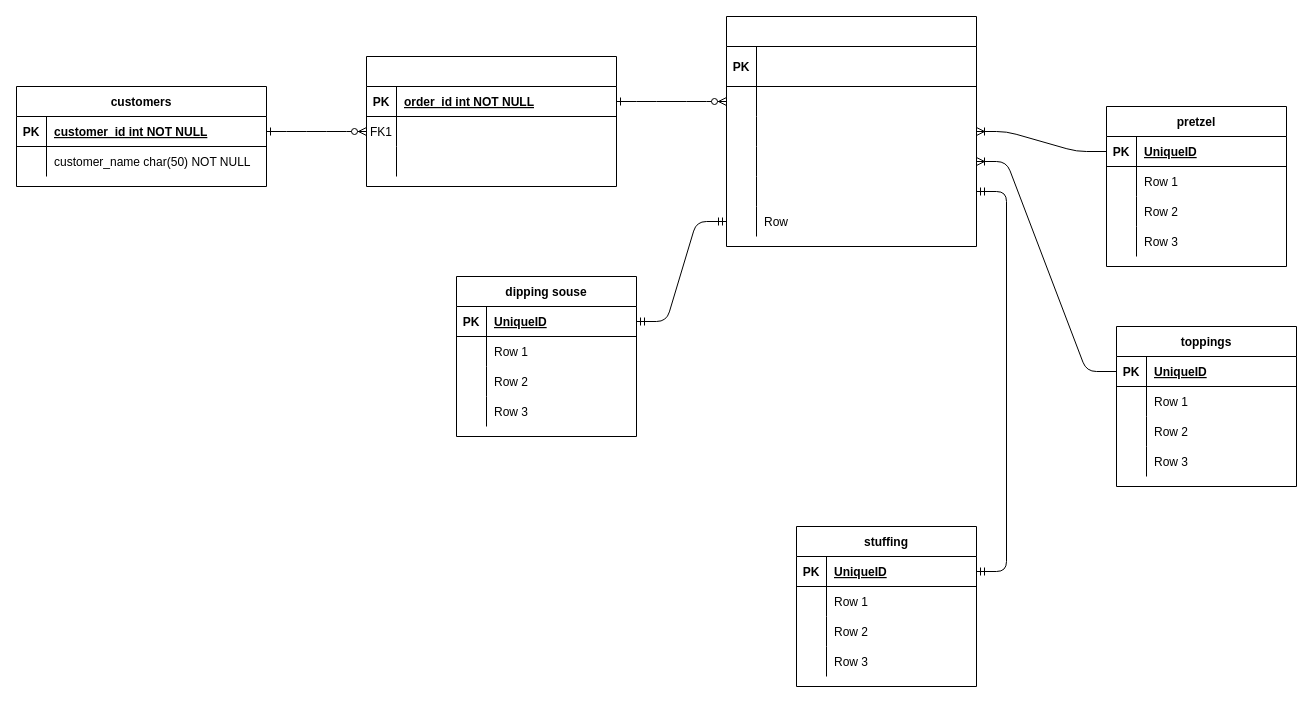
Image size: 1313x703. Some labels were removed from this diagram. Here are the shapes that lost their labels. From the top down, the box of each, then its label:
(366, 56, 616, 186): orders
(726, 16, 976, 246): Order_detail
